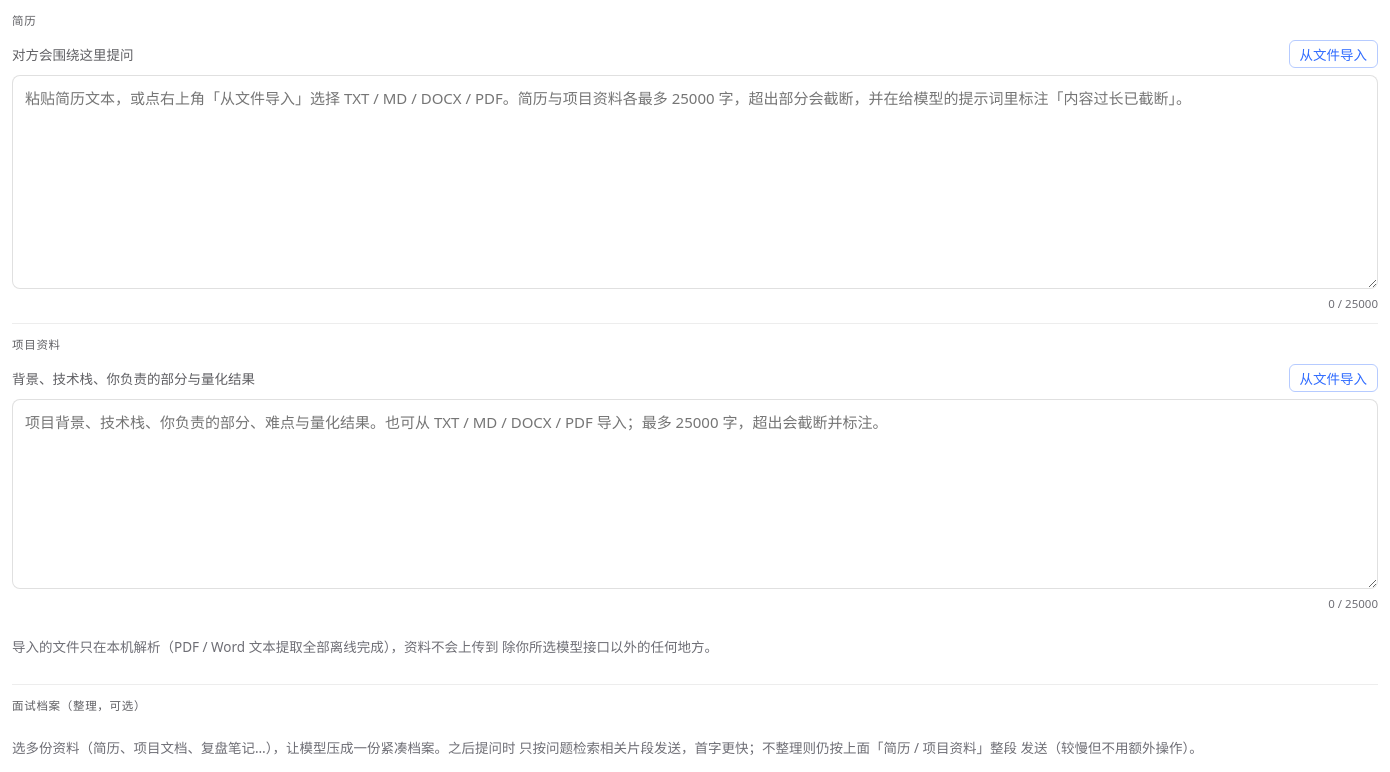
ProfileCard —— 从文件导入 › 第二个导入按钮写入 projects 字段
Step 1. Click the button "从文件导入" in the row of "背景、技术栈、你负责的部分与量化结果" → (1333, 378), box [1288,364,1378,392]
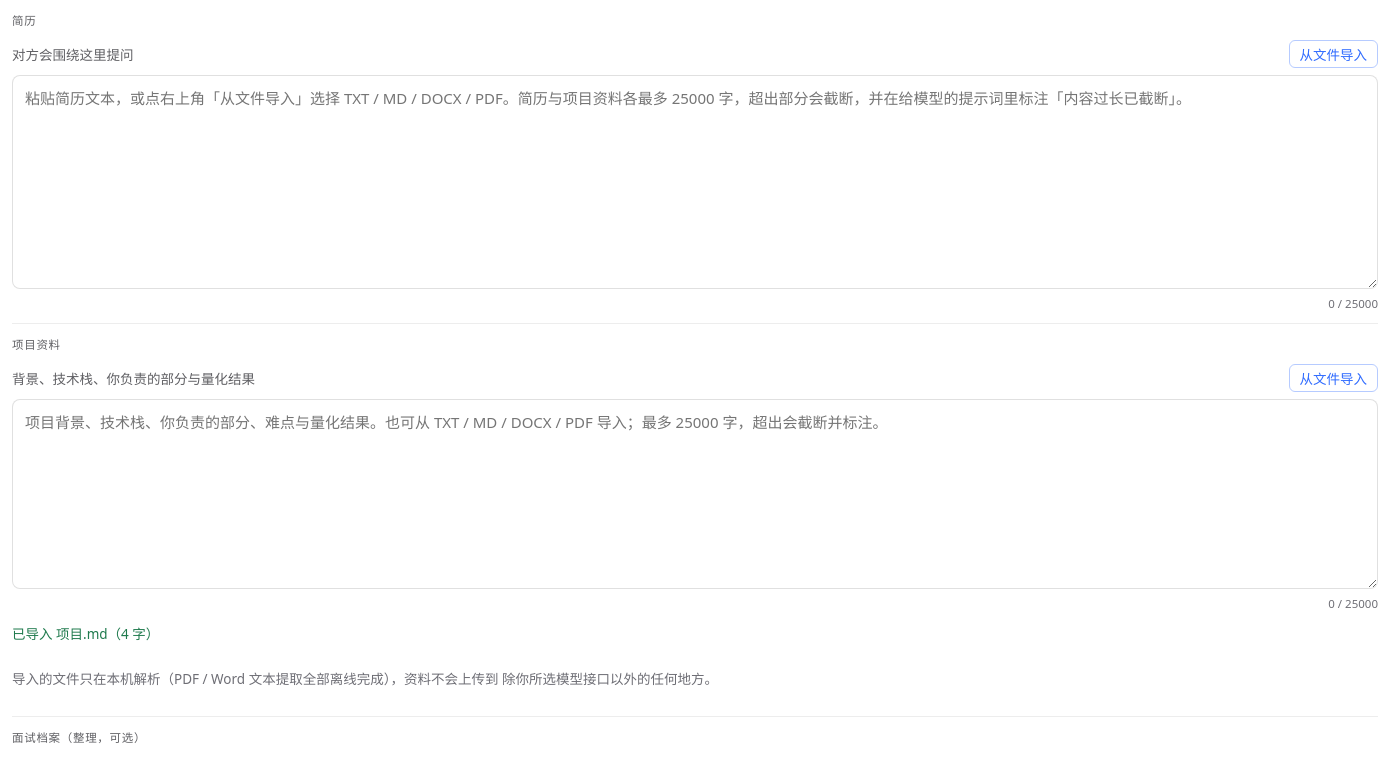
Now the text "已导入 项目.md（4 字）" is shown, box [12,625,159,643]
